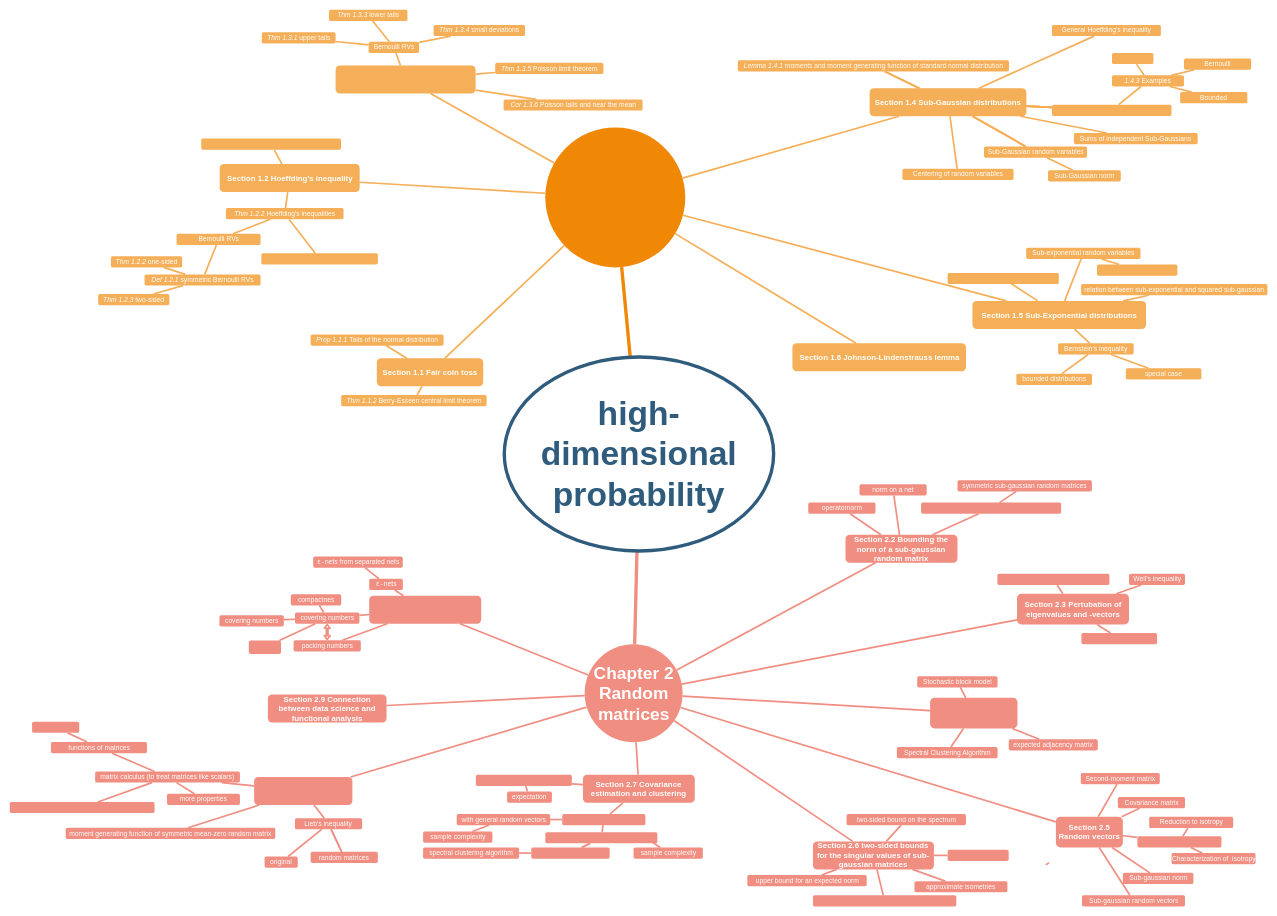
The diagram is 1277 pixels wide and 916 high, and some of its shapes have lost their labels. The shapes that lost their labels are listed below. From the top down, each one's box as (x1, y1, x2, y2) in pixels, then its label:
(1112, 53, 1153, 64): Gaussian
(335, 65, 475, 93): Section 1.3 Chernoff's inequality
(1052, 104, 1171, 116): Prop 1.4.2 Sub-Gaussian properties
(201, 138, 341, 150): Def 1.2.1 Symmetric Bernoulli distribution
(545, 127, 685, 267): Chapter 1 Concentration of sums of independent RVs
(261, 253, 378, 264): Thm 1.2.4 general bounded RVs
(947, 273, 1059, 284): Sub-exponential properties
(1097, 264, 1177, 275): Sub-exponential norm
(921, 502, 1061, 514): norm of matrices with sub-gaussian entries
(997, 573, 1109, 585): Courant-Fisher min-max-theorem
(369, 595, 481, 623): Section 2.1 ɛ- nets, packing and covering numbers
(249, 640, 281, 654): Volume
(1081, 633, 1157, 644): Davis-Kahan theorem
(32, 721, 79, 733): examples
(930, 697, 1017, 728): Section 2.4 Community Detection
(254, 777, 352, 805): Section 2.8 (Sketch of) the proof of the Matrix Bernstein inequality
(476, 774, 572, 786): Matrix Bernstein inequality
(10, 802, 154, 813): positive-semidefinite order
(562, 814, 645, 825): Covariance estimation
(531, 847, 609, 858): clustering of point sets
(545, 832, 657, 843): with sub-gaussian random vectors
(947, 850, 1008, 861): integral identity
(1137, 836, 1221, 847): Isotropic random vectors
(813, 895, 956, 906): singular values as bounds for distortions
